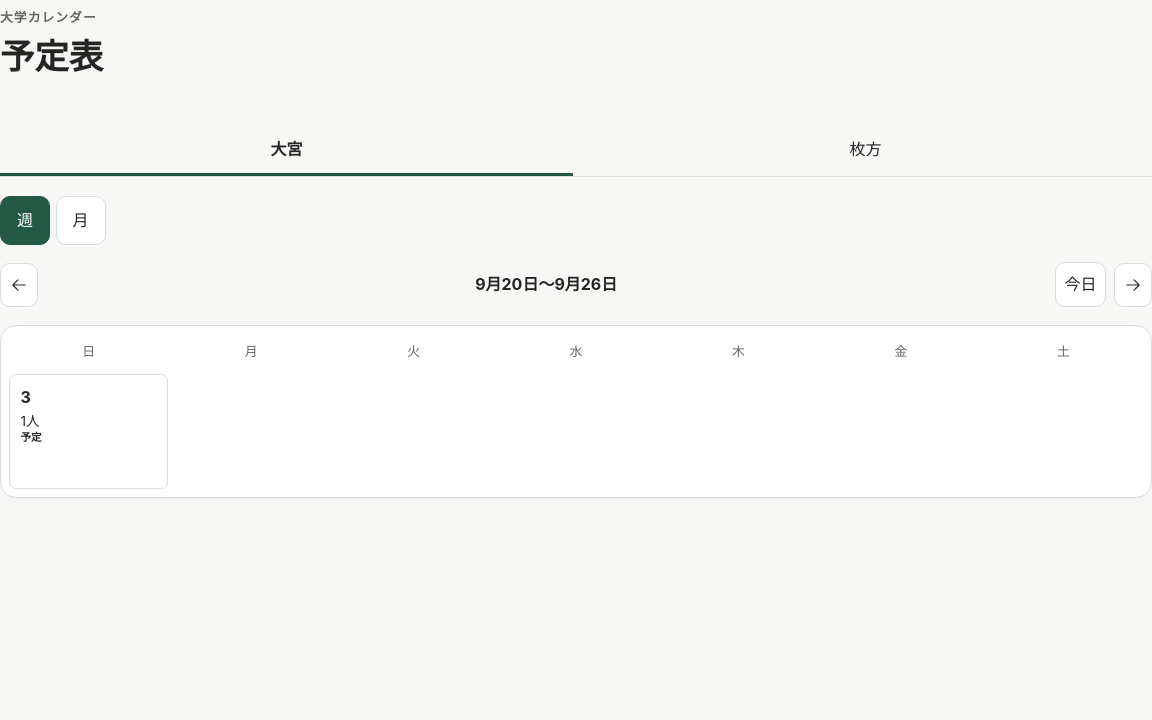
Test case: calendar dialog dismissal › keeps a single-campus location heading unchanged
Click the button with aria-label "2099-01-03" at (89, 431), box [9,374,168,489]
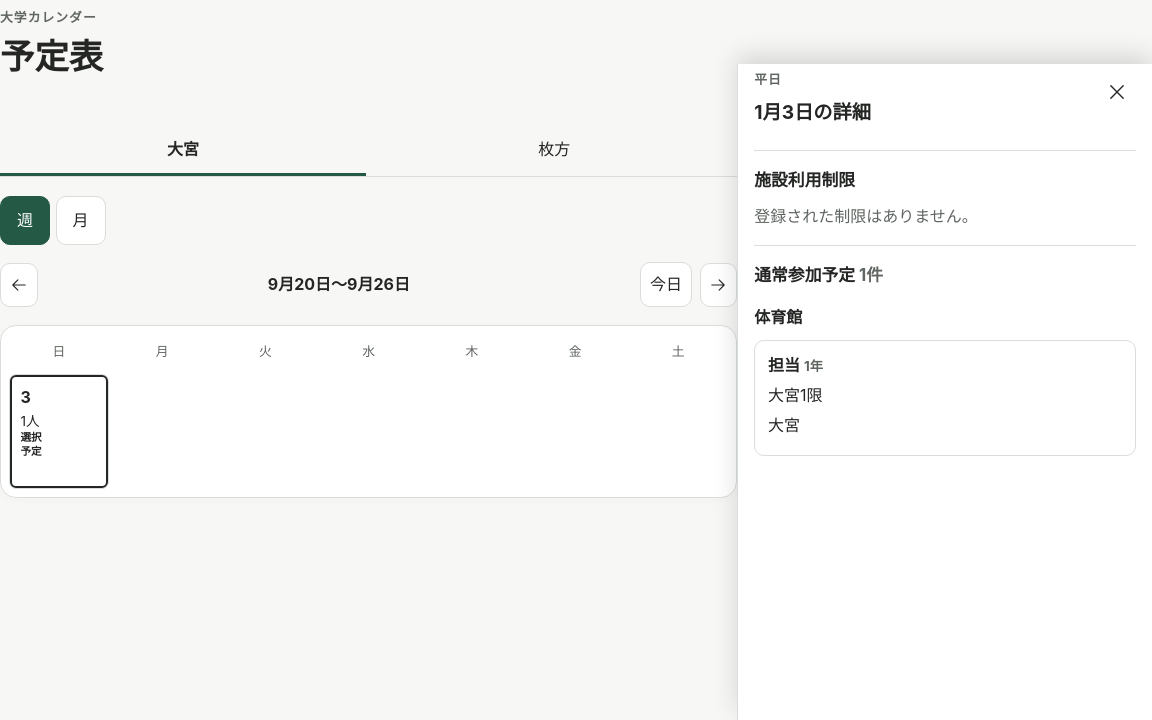
Check: the heading "体育館" is shown, box [754,307,802,327]
